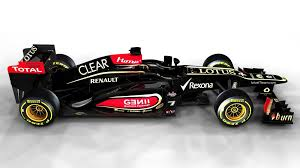f1_car: (5, 39, 299, 142)
